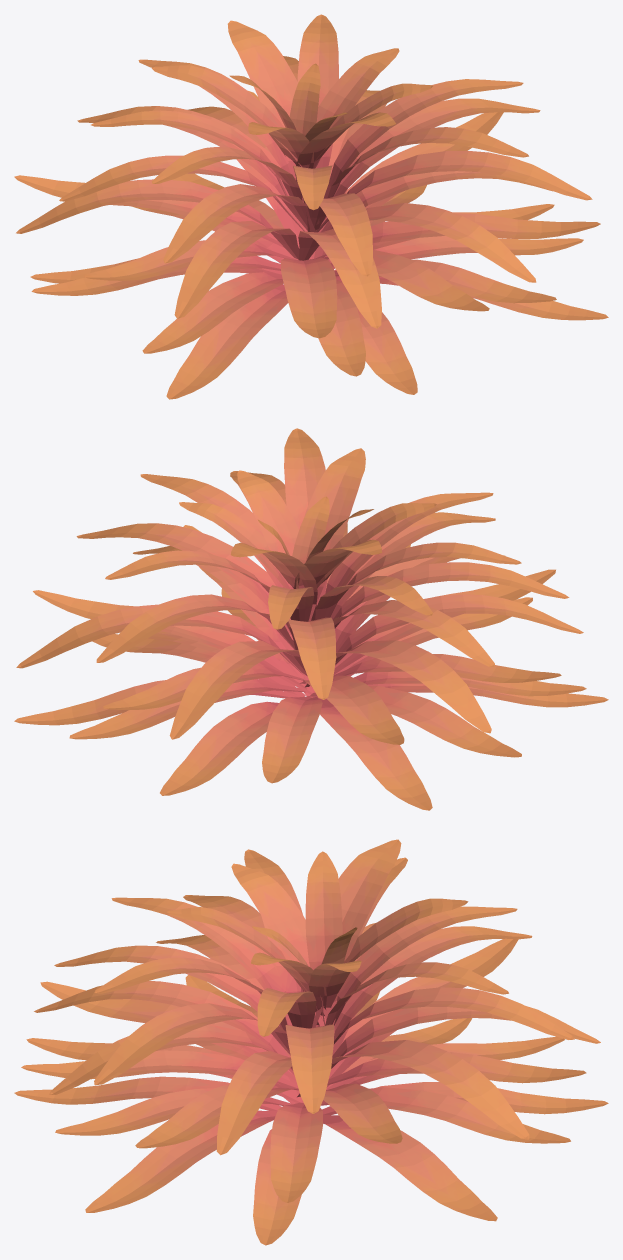
The model's file is bushC.glb.
3 renders of one model, top to bottom at view 1: azimuth 30°, elevation 25°; view 2: azimuth 150°, elevation 25°; view 3: azimuth 270°, elevation 25°, orthographic. The views are drawn at different scales.
Visible parts, largest first — view 1: bush_spiky_A; view 2: bush_spiky_A; view 3: bush_spiky_A.
Part boxes in pixels (bbox=[...]): bush_spiky_A: bbox=[14, 14, 608, 399]; bush_spiky_A: bbox=[14, 428, 608, 810]; bush_spiky_A: bbox=[14, 839, 608, 1245].
Size of the model in its own units: 8.41 by 3.61 by 8.41.
1 material, 1 textured.
